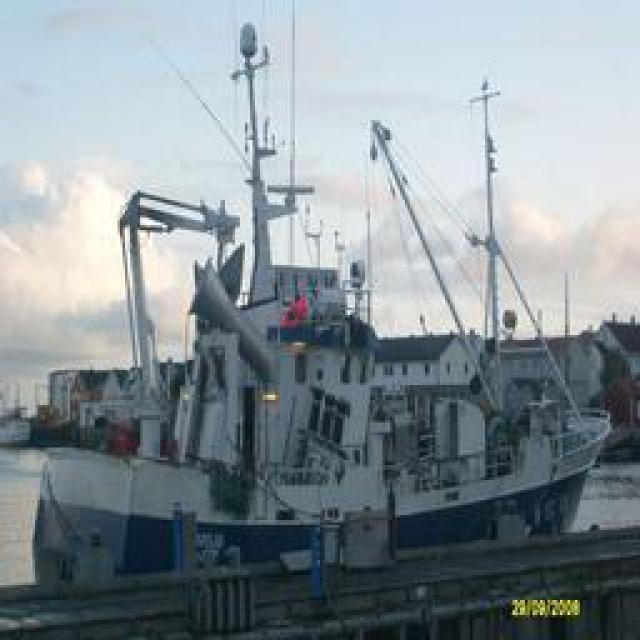Ship: (34, 25, 617, 605)
